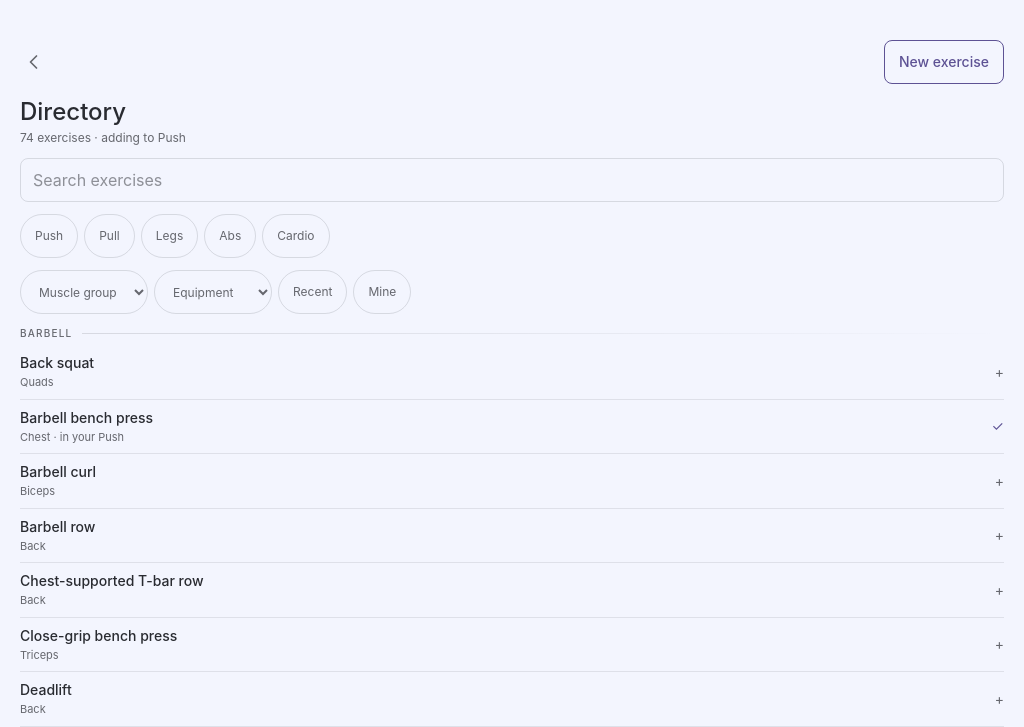
Test: the directory › says what to do when nothing matches
Expected: the heading "Directory" is shown, [20,97,126,126]
Type "zzzz" into the search field labelled "Search exercises".
click(512, 180); type("zzzz")  # box [20,158,1004,202]
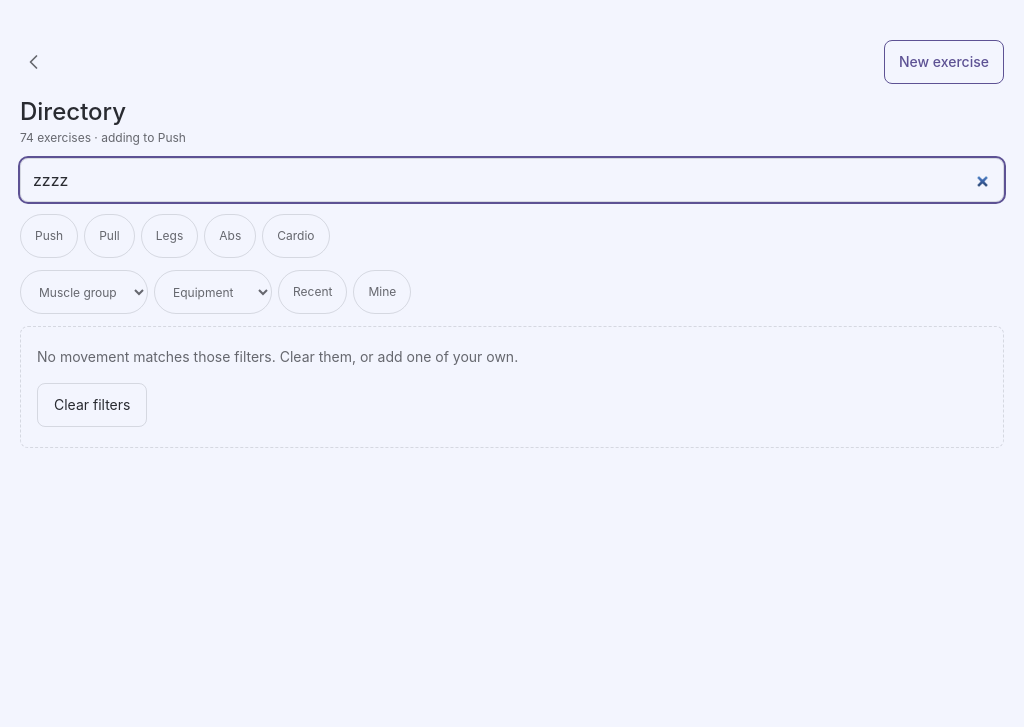
Expected: the text "No movement matches those filters. Clear them, or add one of your own." is shown, [37,347,518,367]
Click the button "Clear filters".
click(92, 405)  # box [37,383,147,427]
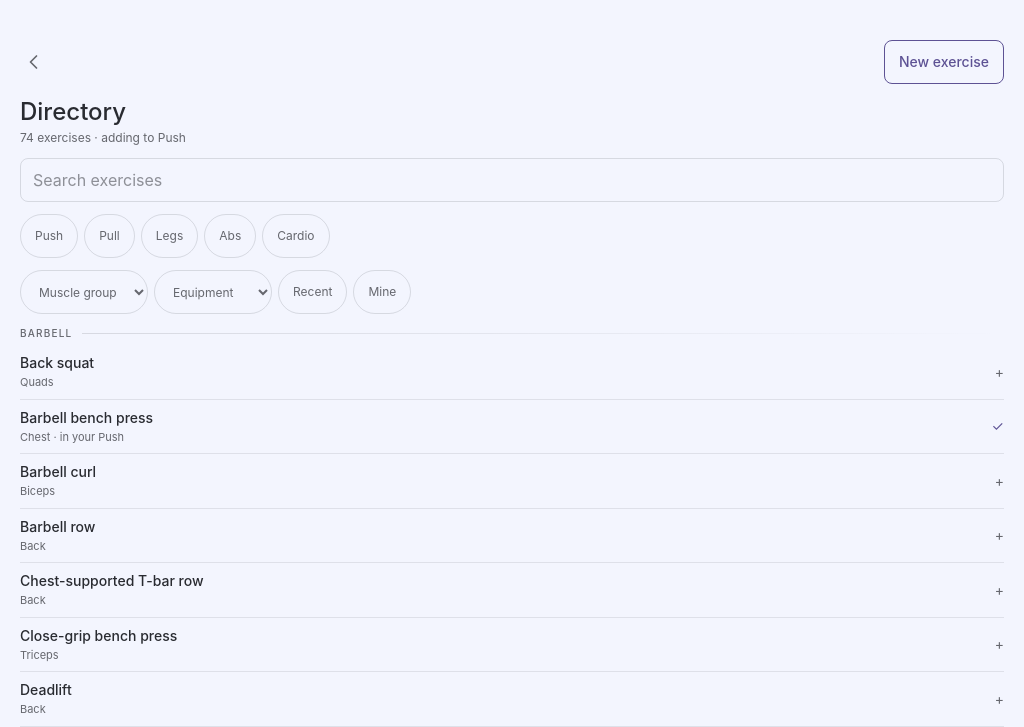
Expected: the text "Barbell bench press" is shown, [20,408,153,426]
